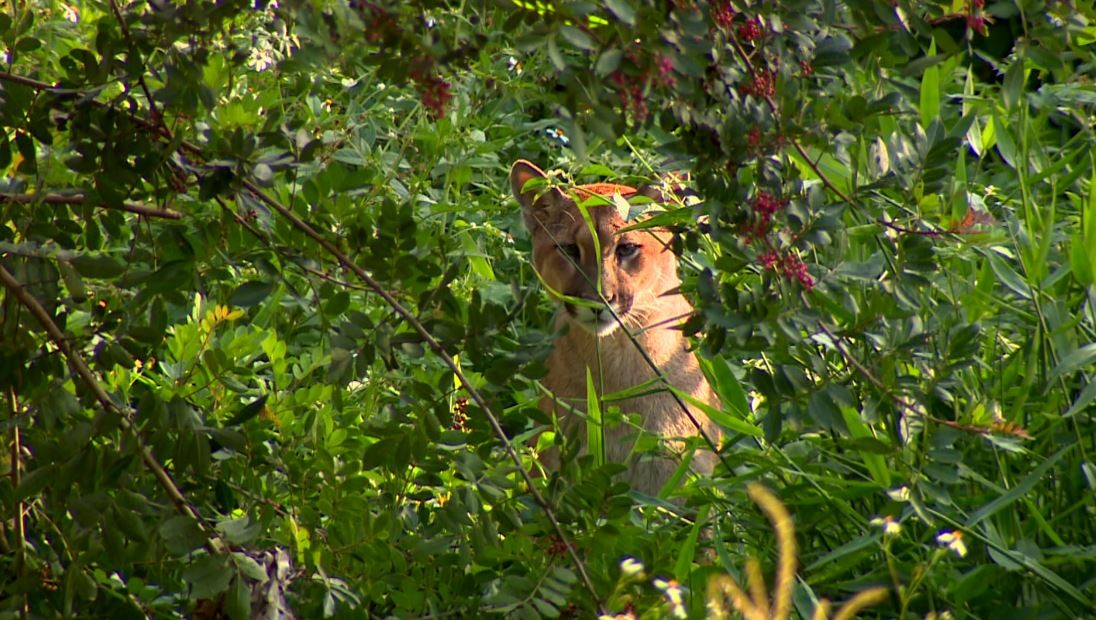OncaParda: (492, 152, 744, 500)
